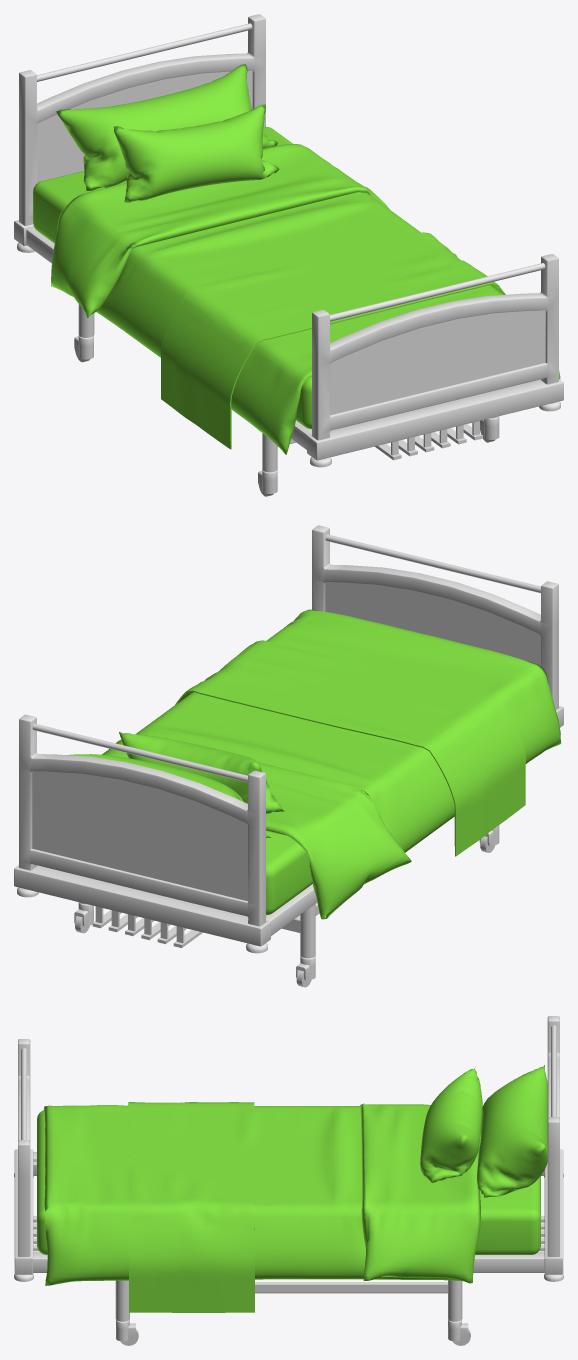
The model's file is Bed.fbx.
3 renders of one model, top to bottom at view 1: azimuth 30°, elevation 25°; view 2: azimuth 150°, elevation 25°; view 3: azimuth 270°, elevation 25°, orthographic. The views are drawn at different scales.
Parts seen in each view (by area): view 1: Bed; view 2: Bed; view 3: Bed.
Part boxes in pixels (bbox=[...]): Bed: bbox=[14, 14, 563, 496]; Bed: bbox=[14, 525, 563, 987]; Bed: bbox=[14, 1016, 563, 1345].
Bounding box in the file's own units: 135 × 99.43 × 218.
